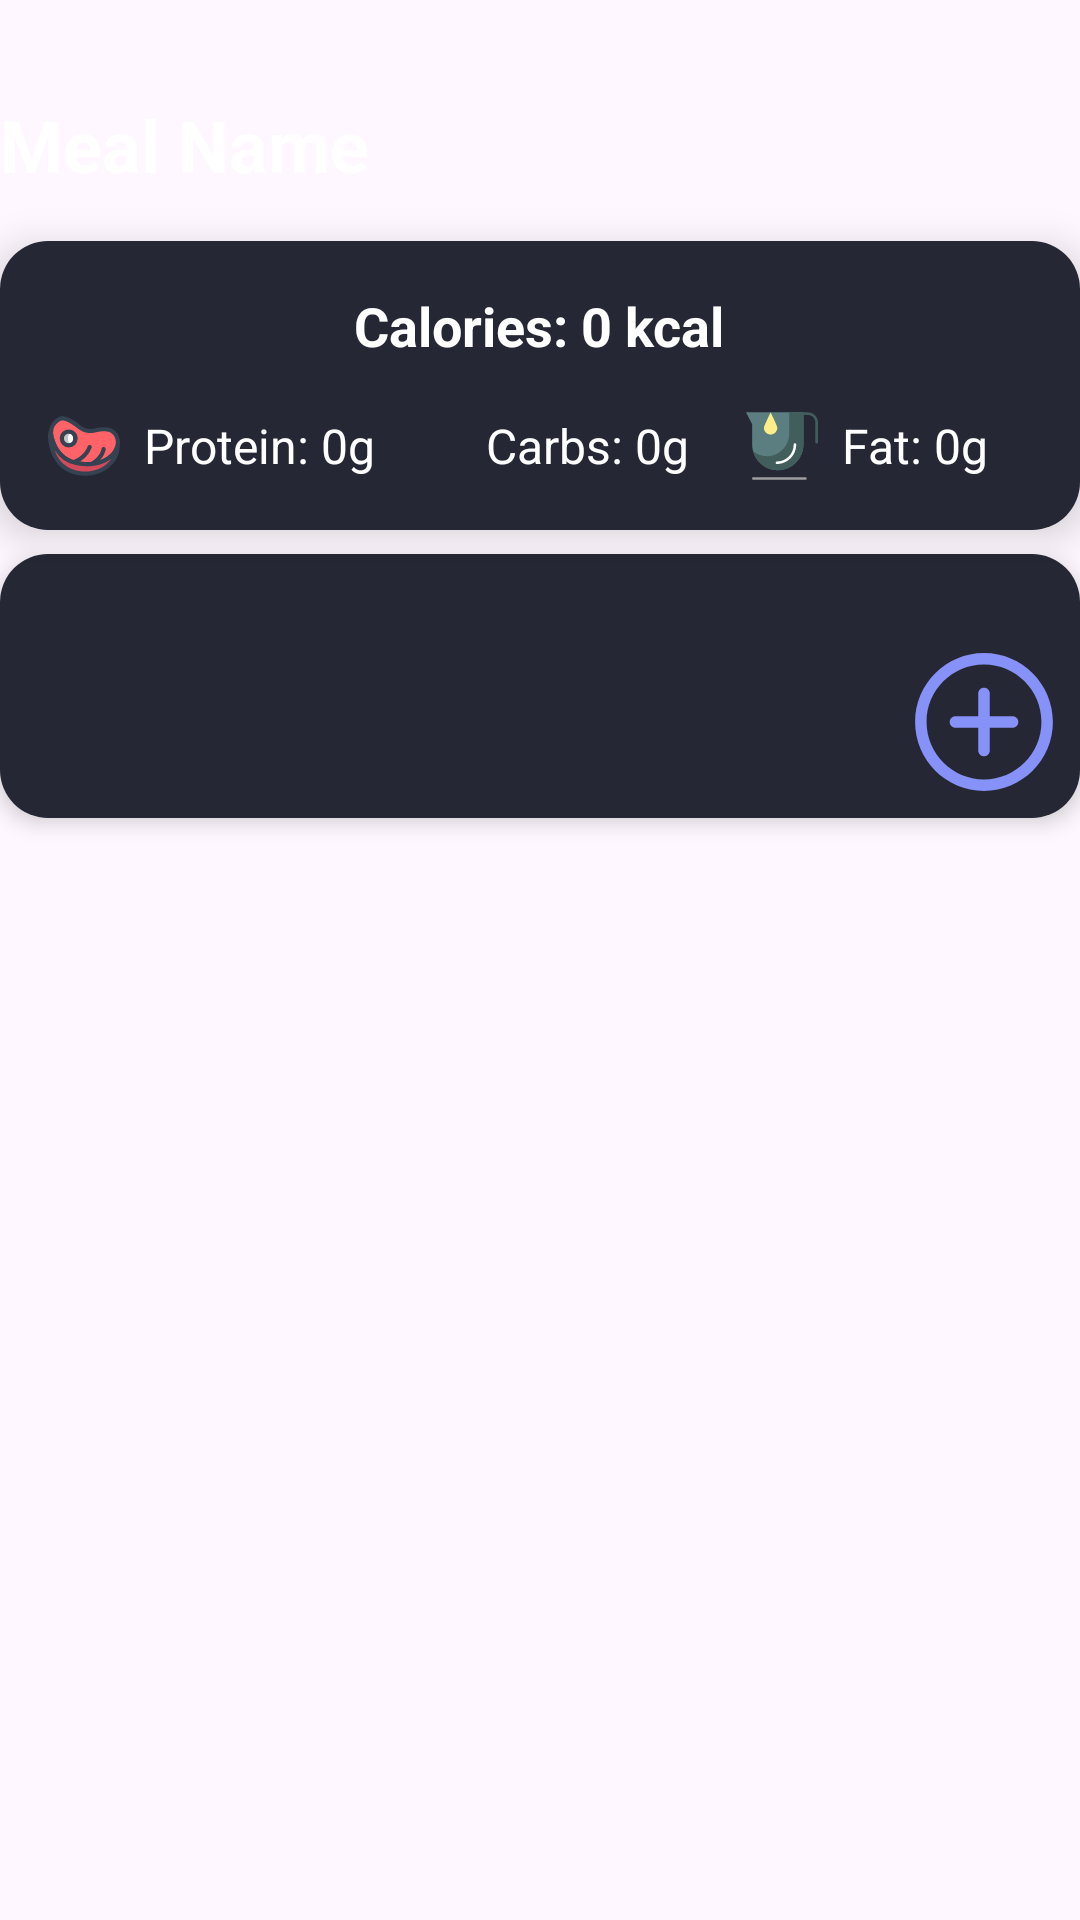

Icons on this 1080x1920 Android screen, each with its box as [x1, y1, x2, y2]:
Add Meal: [915, 653, 1053, 791]
